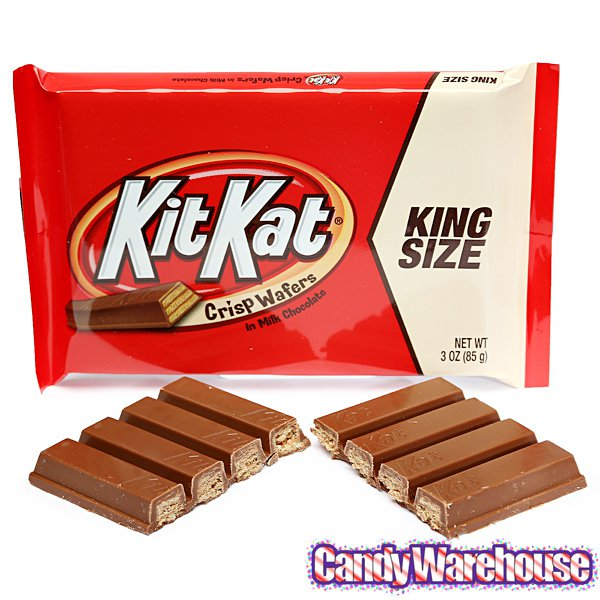kitkat: (11, 68, 560, 388)
